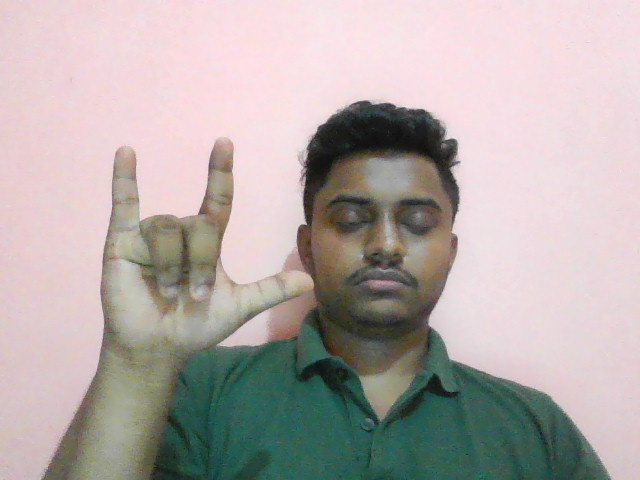I Love You: (83, 129, 321, 380)
